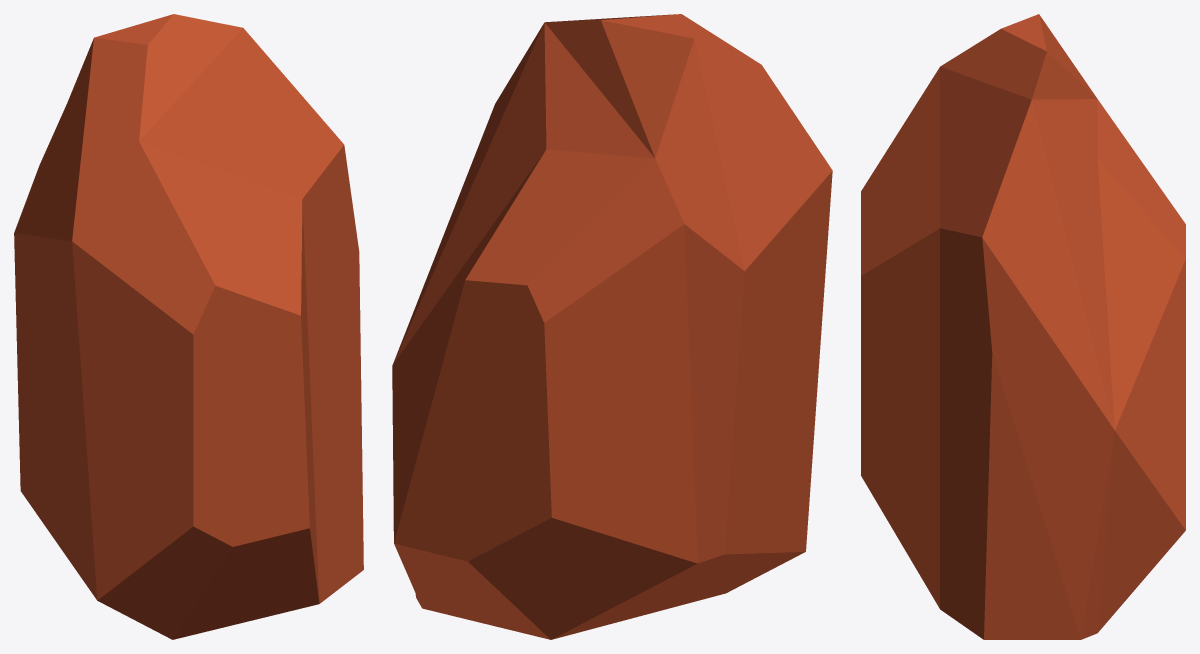
Rendered from Rock_02.fbx.
3 views of the same model, side by side, from view 1: azimuth 30°, elevation 25°; view 2: azimuth 150°, elevation 25°; view 3: azimuth 270°, elevation 25° (orthographic). The views are drawn at different scales.
Visible parts, largest first — view 1: Rock_02; view 2: Rock_02; view 3: Rock_02.
Part boxes in pixels (bbox=[...]): Rock_02: bbox=[14, 14, 363, 639]; Rock_02: bbox=[392, 14, 832, 639]; Rock_02: bbox=[861, 14, 1185, 639].
Bounding box in the file's own units: 214 × 364 × 206.
1 material, 1 textured.
